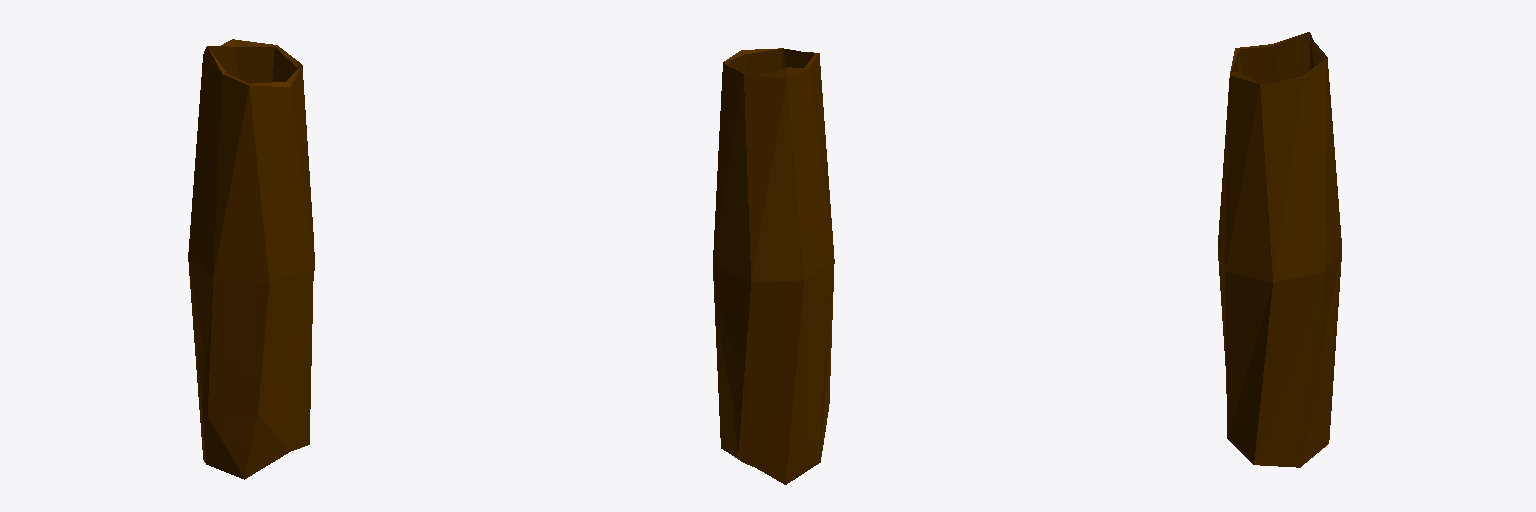
File: WoodTrunkExt.obj
3 views of the same model, side by side, from view 1: azimuth 30°, elevation 25°; view 2: azimuth 150°, elevation 25°; view 3: azimuth 270°, elevation 25° (orthographic).
Parts seen in each view (by area): view 1: WoodTrunkExt; view 2: WoodTrunkExt; view 3: WoodTrunkExt.
Boxes of the visible parts, <box> form: WoodTrunkExt: <box>188,39,314,479</box>; WoodTrunkExt: <box>713,48,834,484</box>; WoodTrunkExt: <box>1218,32,1341,467</box>.
Bounding box in the file's own units: 1.19 × 4.29 × 1.17.